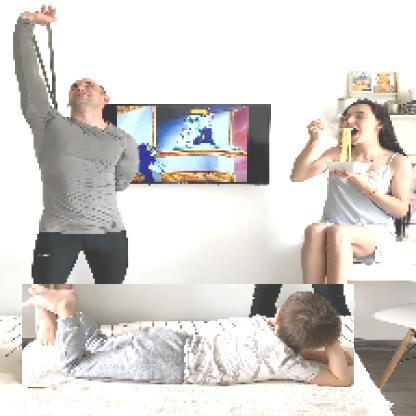child: (23, 285, 356, 389)
